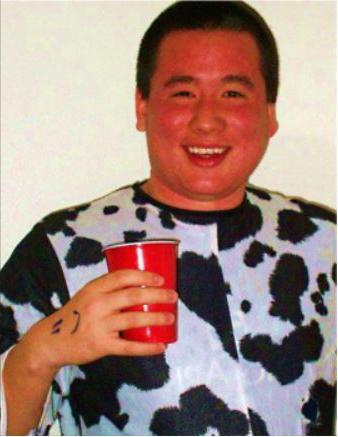Drunk: (157, 35, 266, 190)
